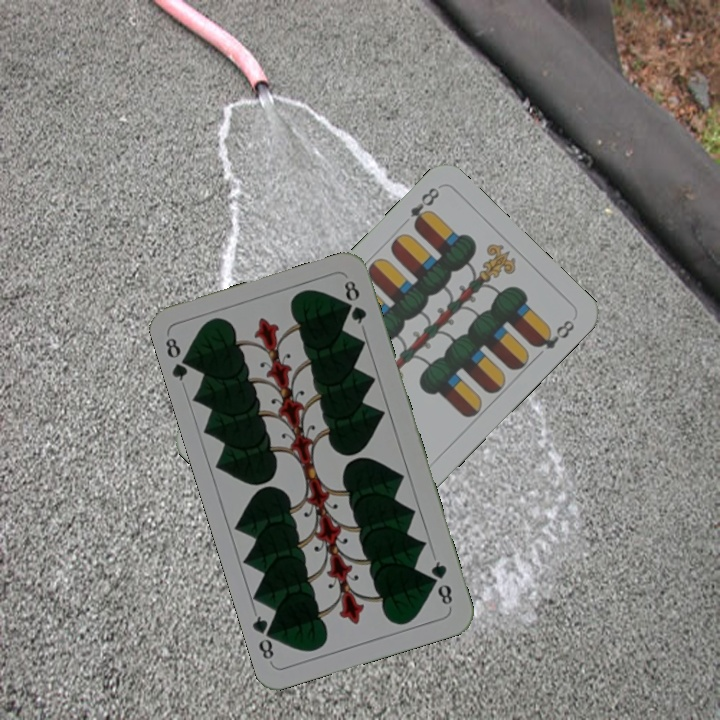E8: (406, 183, 443, 232)
G8: (161, 333, 196, 383), (427, 557, 455, 608)
